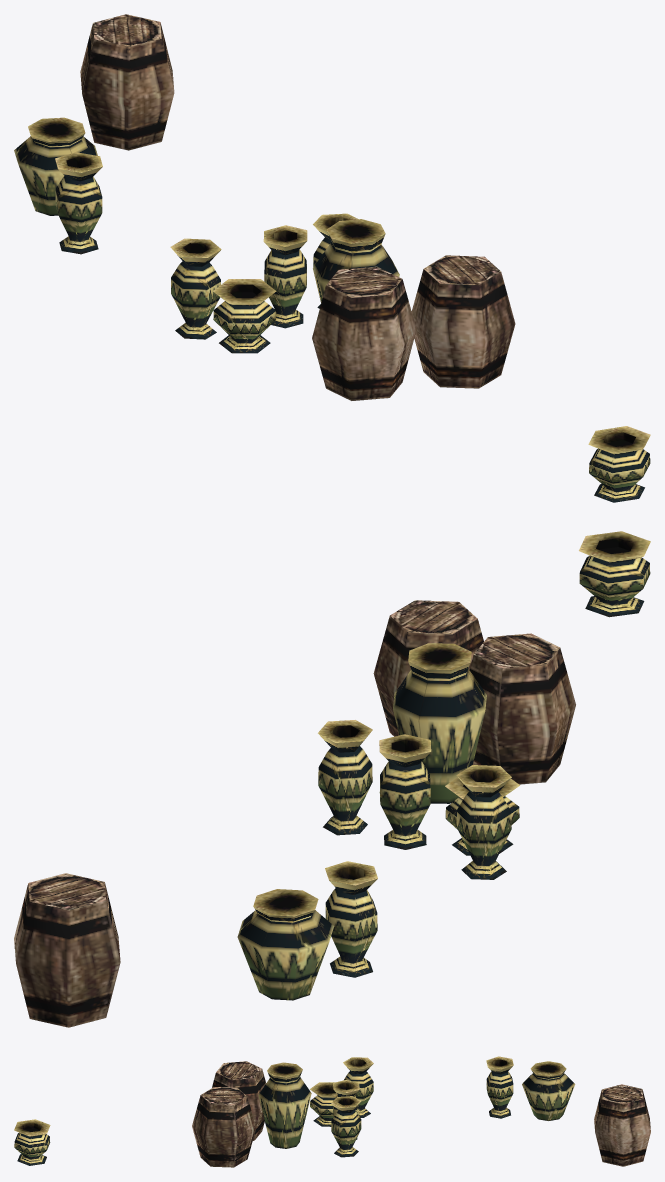
Rendered from kart_merchant_ship_cargo.dae.
3 renders of one model, top to bottom at view 1: azimuth 30°, elevation 25°; view 2: azimuth 150°, elevation 25°; view 3: azimuth 270°, elevation 25°, orthographic. The views are drawn at different scales.
Parts seen in each view (by area): view 1: Object02; view 2: Object02; view 3: Object02.
Part boxes in pixels (x1,y1,x2,y2): Object02: (14, 14, 650, 502); Object02: (14, 531, 650, 1027); Object02: (14, 1056, 650, 1167).
Size of the model in its own units: 3.51 by 1.84 by 14.59.
